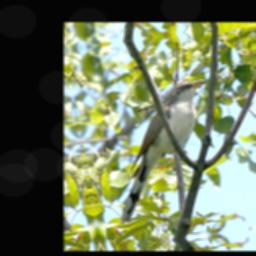Cuckoo: (96, 76, 232, 225)
